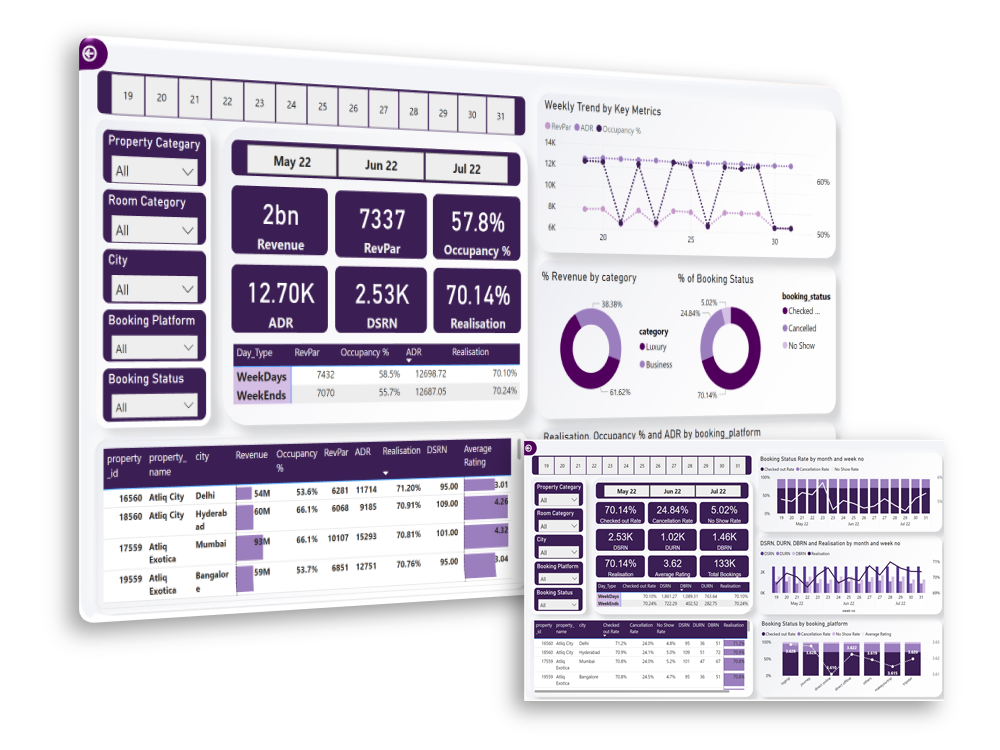

This screenshot's page, from the dashboard's own definition file:
{"tool":"powerbi","page":{"name":"Revenue Overview","canvas":[1330,720],"ordinal":2},"visuals":[{"type":"tableEx","fields":{"Values":["dim_hotels.property_id","dim_hotels.property_name","dim_hotels.city","Measure Table.Revenue","Measure Table.Occupancy %","Measure Table.RevPar","Measure Table.ADR","Measure Table.Realisation","Measure Table.DSRN","Measure Table.Average Rating"]},"box":[23.8,498.8,689.3,207.1],"z":8000},{"type":"slicer","title":"City","fields":{"Values":["dim_hotels.city"]},"box":[32.1,259.8,156,69],"z":9000},{"type":"slicer","title":"Room Category","fields":{"Values":["fact_aggregating booking.room_category"]},"box":[32.1,185.7,156,67.9],"z":10000},{"type":"slicer","title":"Property Categary","fields":{"Values":["dim_hotels.category"]},"box":[32.1,111.6,156,67.9],"z":11000},{"type":"slicer","title":"Month","fields":{"Values":["dim_date.month"]},"box":[225,116.8,479.8,47.6],"z":12000},{"type":"slicer","title":"Booking Platform","fields":{"Values":["fact_bookings.booking_platform"]},"box":[32.1,335.1,156,66.7],"z":13000},{"type":"lineChart","title":"Weekly Trend by Key Metrics","fields":{"Category":["dim_date.month","dim_date.week no"],"Y":["Measure Table.RevPar","Measure Table.ADR"],"Y2":["Measure Table.Occupancy %"]},"box":[741.7,40.5,558.3,208.3],"z":14000},{"type":"slicer","title":"Booking Status","fields":{"Values":["fact_bookings.booking_status"]},"box":[32.1,408,156,67.9],"z":15000},{"type":"card","fields":{"Values":["Measure Table.Revenue"]},"box":[225.3,175.5,154,89.3],"z":16000},{"type":"card","fields":{"Values":["Measure Table.RevPar"]},"box":[389.3,176.9,154,89.3],"z":17000},{"type":"card","fields":{"Values":["Measure Table.Occupancy %"]},"box":[551.3,176.9,154,89.3],"z":18000},{"type":"card","fields":{"Values":["Measure Table.ADR"]},"box":[225.3,276.3,154,89.3],"z":19000},{"type":"card","fields":{"Values":["Measure Table.DSRN"]},"box":[389.3,276.3,154,89.3],"z":20000},{"type":"card","fields":{"Values":["Measure Table.Realisation"]},"box":[551.5,276.3,154,89.3],"z":21000},{"type":"donutChart","title":"% Revenue by category","fields":{"Category":["dim_hotels.category"],"Y":["Measure Table.Revenue"]},"box":[736.9,276.2,263.1,201.2],"z":22000},{"type":"slicer","title":"Week No.","fields":{"Values":["dim_date.week no"]},"box":[23.8,40.5,689.3,54.8],"z":23000},{"type":"donutChart","title":"% of Booking Status","fields":{"Category":["fact_bookings.booking_status"],"Y":["CountNonNull(fact_bookings.booking_status)"]},"box":[990.5,276.2,320.2,201.2],"z":24000},{"type":"lineClusteredColumnComboChart","fields":{"Category":["fact_bookings.booking_platform"],"Y":["Measure Table.Realisation","Measure Table.Occupancy %"],"Y2":["Measure Table.ADR"]},"box":[740.5,497.6,564.3,216.7],"z":25000},{"type":"pivotTable","fields":{"Rows":["dim_date.Day_Type"],"Values":["Measure Table.RevPar","Measure Table.Occupancy %","Measure Table.ADR","Measure Table.Realisation"]},"box":[223.8,374,488.1,102.4],"z":26000},{"type":"actionButton","box":[0,0,40,40],"z":28000}]}

Visuals, with their boxes on the page's 1330x720 design canvas (x1, y1, x2, y2). These are canvas units, not pixel positions in the 1000x750 screenshot, which may show the page scaled, cropped or inside an application window:
tableEx - dim_hotels.property_id x dim_hotels.property_name: locate(24, 499, 713, 706)
"City" slicer: locate(32, 260, 188, 329)
"Room Category" slicer: locate(32, 186, 188, 254)
"Property Categary" slicer: locate(32, 112, 188, 180)
"Month" slicer: locate(225, 117, 705, 164)
"Booking Platform" slicer: locate(32, 335, 188, 402)
"Weekly Trend by Key Metrics" lineChart: locate(742, 40, 1300, 249)
"Booking Status" slicer: locate(32, 408, 188, 476)
card - Measure Table.Revenue: locate(225, 176, 379, 265)
card - Measure Table.RevPar: locate(389, 177, 543, 266)
card - Measure Table.Occupancy %: locate(551, 177, 705, 266)
card - Measure Table.ADR: locate(225, 276, 379, 366)
card - Measure Table.DSRN: locate(389, 276, 543, 366)
card - Measure Table.Realisation: locate(552, 276, 706, 366)
"% Revenue by category" donutChart: locate(737, 276, 1000, 477)
"Week No." slicer: locate(24, 40, 713, 95)
"% of Booking Status" donutChart: locate(990, 276, 1311, 477)
lineClusteredColumnComboChart - fact_bookings.booking_platform x Measure Table.Realisation: locate(740, 498, 1305, 714)
pivotTable - dim_date.Day_Type x Measure Table.RevPar: locate(224, 374, 712, 476)
actionButton: locate(0, 0, 40, 40)
